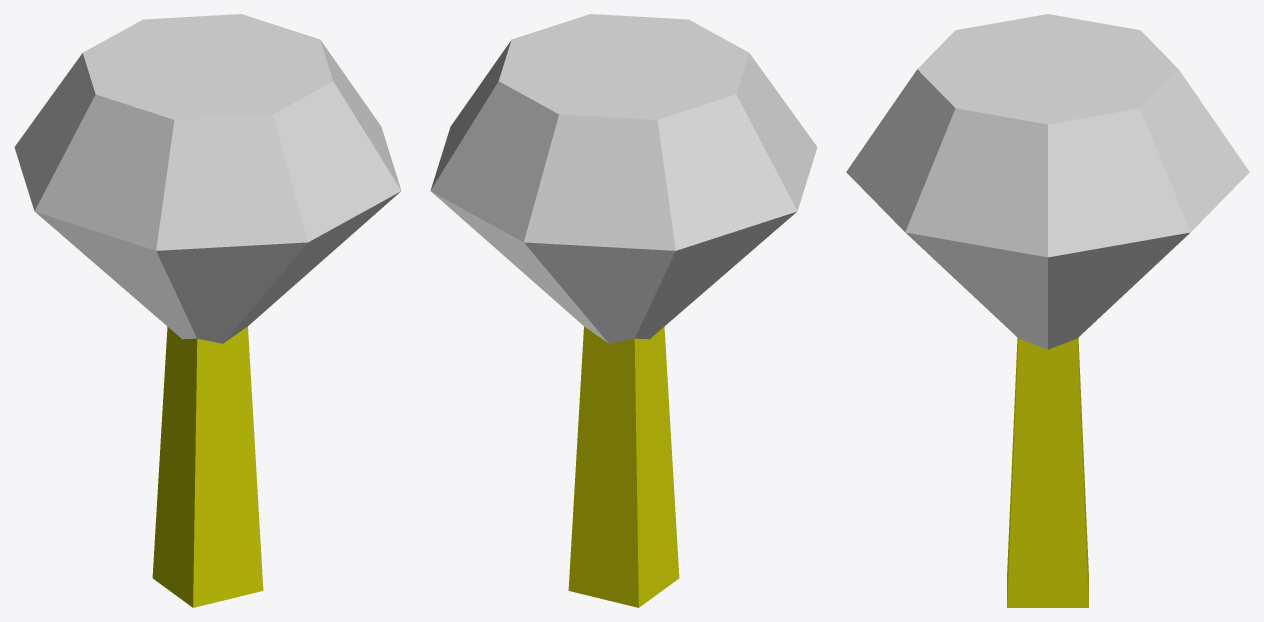
File: бриллиантин.fbx
3 views of the same model, side by side, from view 1: azimuth 30°, elevation 25°; view 2: azimuth 150°, elevation 25°; view 3: azimuth 270°, elevation 25° (orthographic).
Parts seen in each view (by area): view 1: Cylinder, Cube; view 2: Cylinder, Cube; view 3: Cylinder, Cube.
Boxes of the visible parts, x1=… form: Cylinder: x1=14, y1=14, x2=401, y2=343; Cube: x1=152, y1=326, x2=263, y2=607; Cylinder: x1=430, y1=14, x2=817, y2=343; Cube: x1=568, y1=326, x2=679, y2=607; Cylinder: x1=846, y1=14, x2=1249, y2=349; Cube: x1=1007, y1=337, x2=1088, y2=607.
Bounding box in the file's own units: 179 × 255 × 179.
